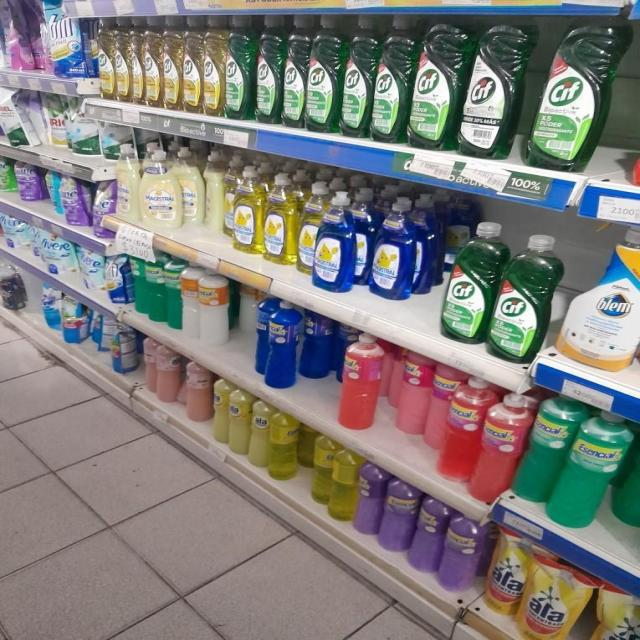ala_crem_amarillo: (250, 400, 270, 470), (229, 387, 249, 457)
ala_sachet_amarillo: (522, 556, 585, 640), (590, 595, 640, 640)
cif_conc_bot_amarilla: (203, 19, 224, 117), (183, 22, 202, 114), (163, 22, 182, 112), (144, 22, 162, 108), (98, 18, 114, 101), (130, 22, 144, 105), (115, 20, 128, 104)
cif_conc_botella_verde: (529, 19, 603, 172), (491, 232, 556, 362), (460, 22, 521, 160), (409, 20, 459, 150), (441, 220, 493, 344), (372, 15, 410, 144), (306, 13, 341, 134), (341, 13, 373, 138), (255, 14, 282, 125), (225, 15, 253, 121), (283, 14, 305, 130)
esencial: (198, 270, 231, 347)
magistral_con_amarillo: (264, 171, 296, 267), (233, 164, 262, 256), (297, 182, 316, 276), (224, 156, 234, 247)
magistral_con_azul: (371, 196, 416, 302), (314, 189, 357, 293)
magistral_con_crema: (141, 147, 179, 230), (179, 146, 204, 229), (117, 142, 139, 224), (205, 149, 224, 234)
